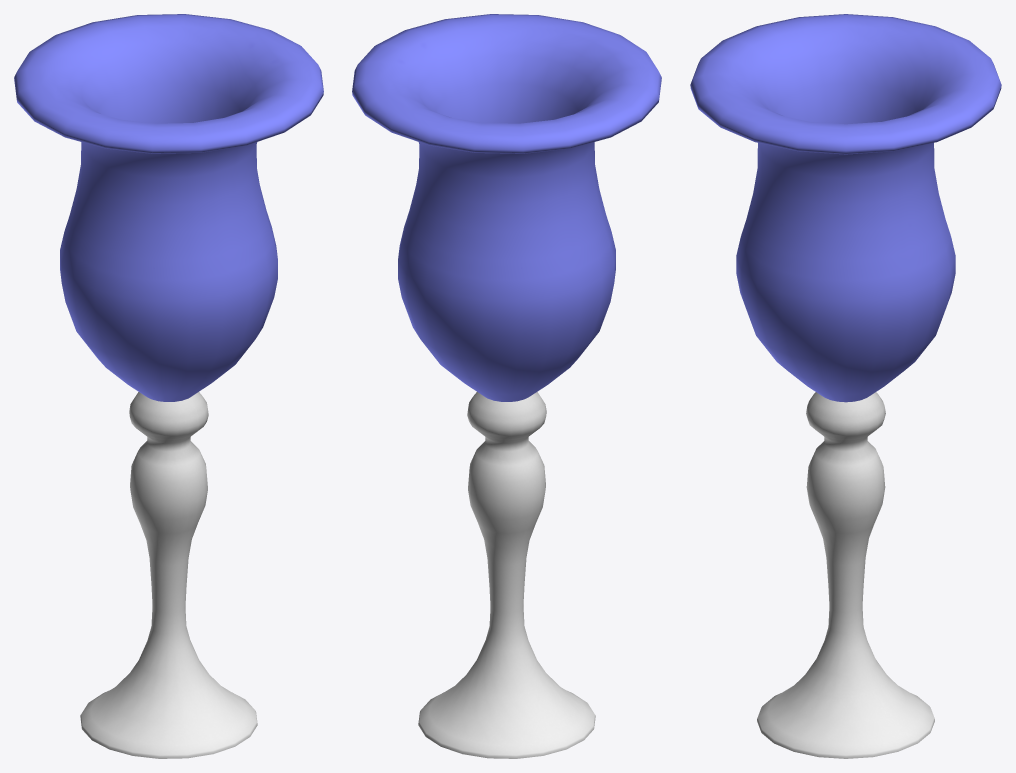
File: DecorStandPot04.FBX
3 views of the same model, side by side, from view 1: azimuth 30°, elevation 25°; view 2: azimuth 150°, elevation 25°; view 3: azimuth 270°, elevation 25° (orthographic).
Parts seen in each view (by area): view 1: DecorStandPot04; view 2: DecorStandPot04; view 3: DecorStandPot04.
Boxes of the visible parts, left/top/right/bottom form: DecorStandPot04: left=14, top=14, right=323, bottom=758; DecorStandPot04: left=352, top=14, right=661, bottom=758; DecorStandPot04: left=690, top=14, right=1001, bottom=758.
Size of what is drawn, in the model's own units: 0.2658 by 0.6102 by 0.2658.
